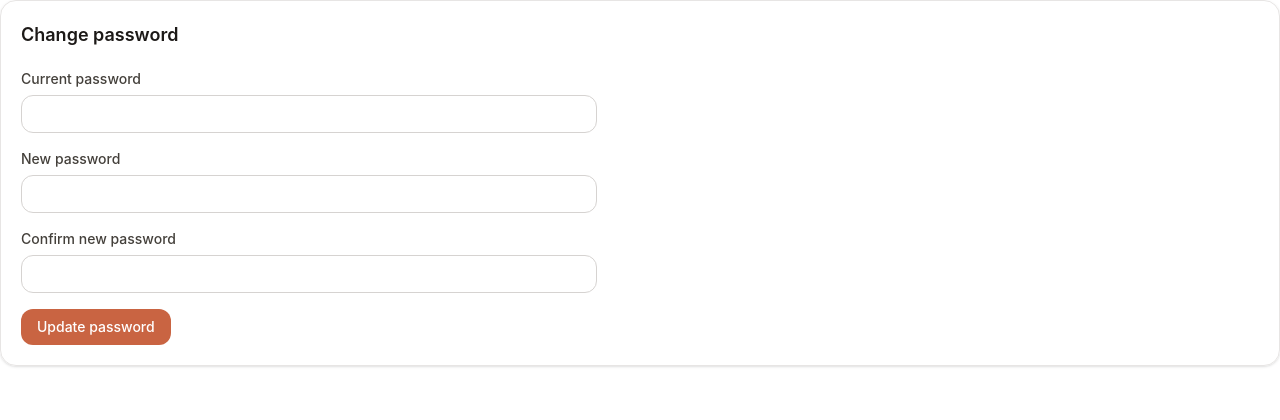
Scenario: PasswordChangeForm › validates matching passwords and reports replacement success
Type "OldPassword123!" into the password field labelled "Current password" at (309, 114), box [21, 95, 597, 133]
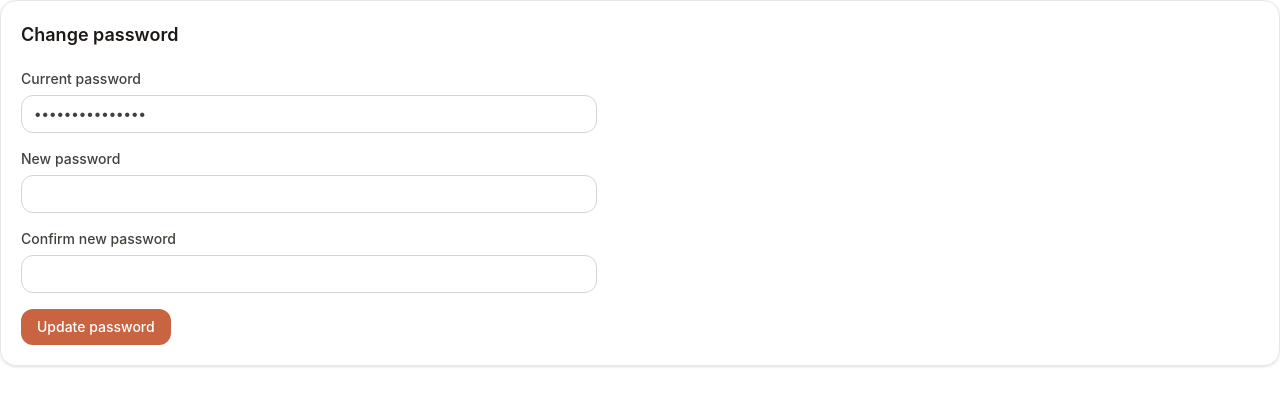
Type "NewPassword123!" into the password field labelled "New password" at (309, 194), box [21, 175, 597, 213]
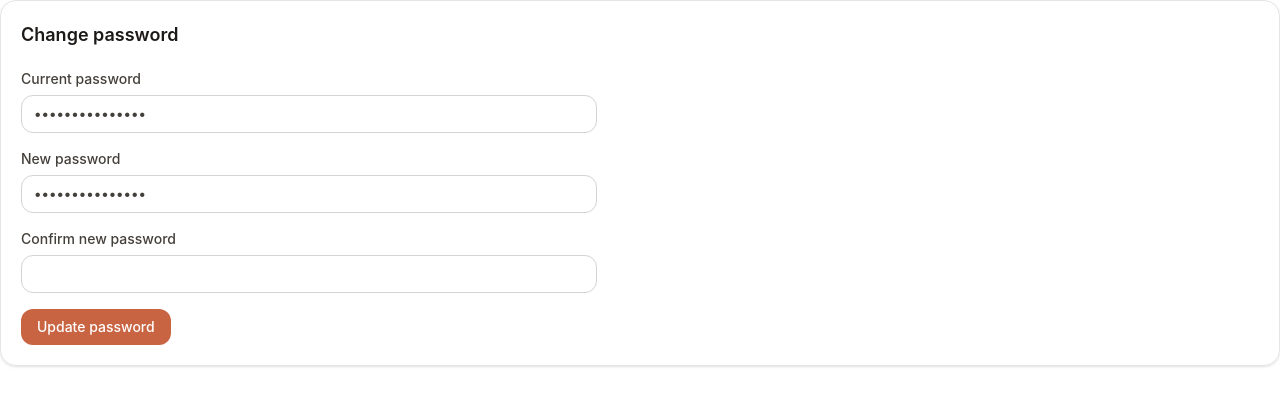
Type "NewPassword123!" into the password field labelled "Confirm new password" at (309, 274), box [21, 255, 597, 293]
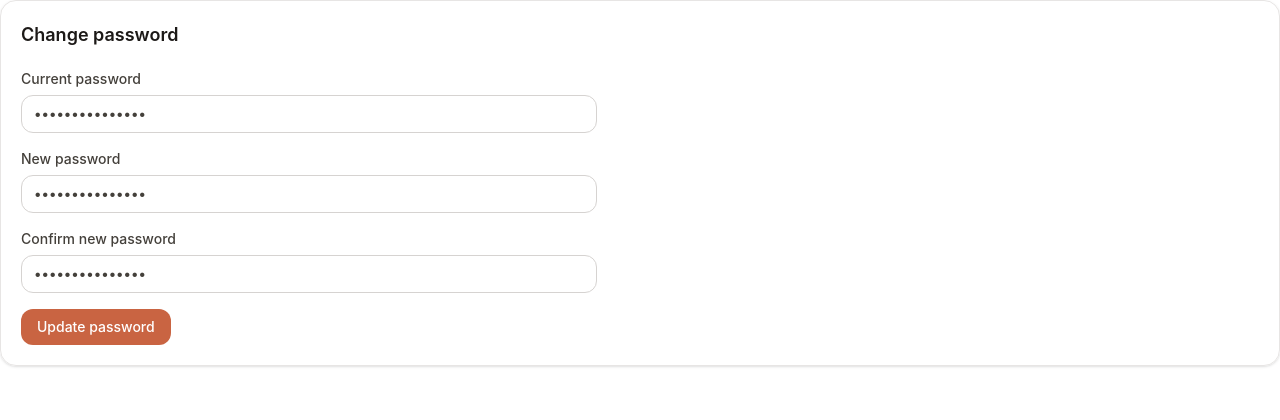
Click the button "Update password" at (96, 327), box [21, 309, 171, 345]
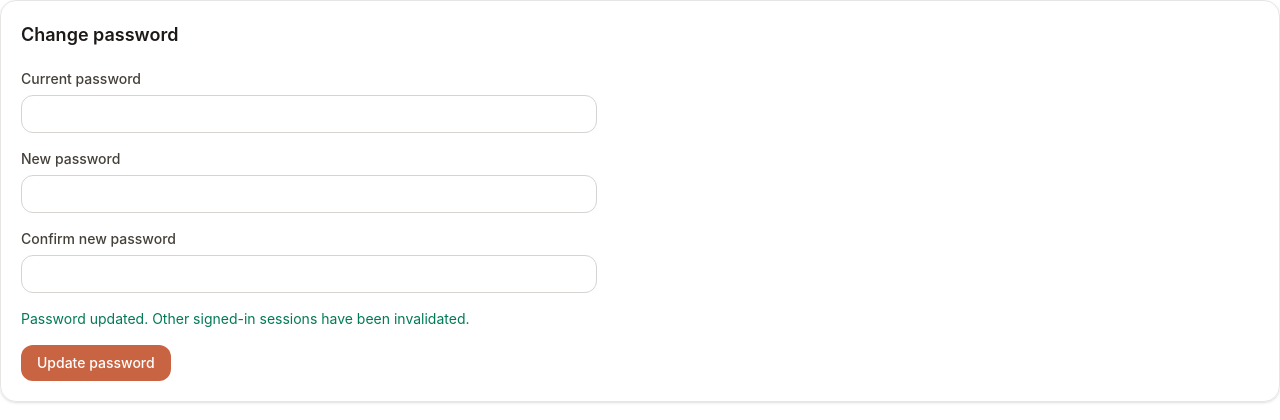
expect the text "Other signed-in sessions" is shown: met, box [21, 310, 470, 327]
